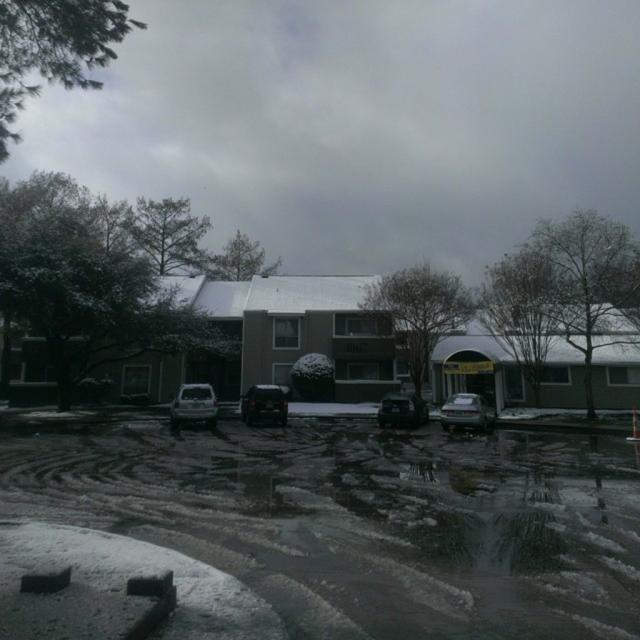car: (171, 380, 217, 423), (242, 387, 290, 426), (377, 391, 430, 423), (443, 392, 496, 424)
